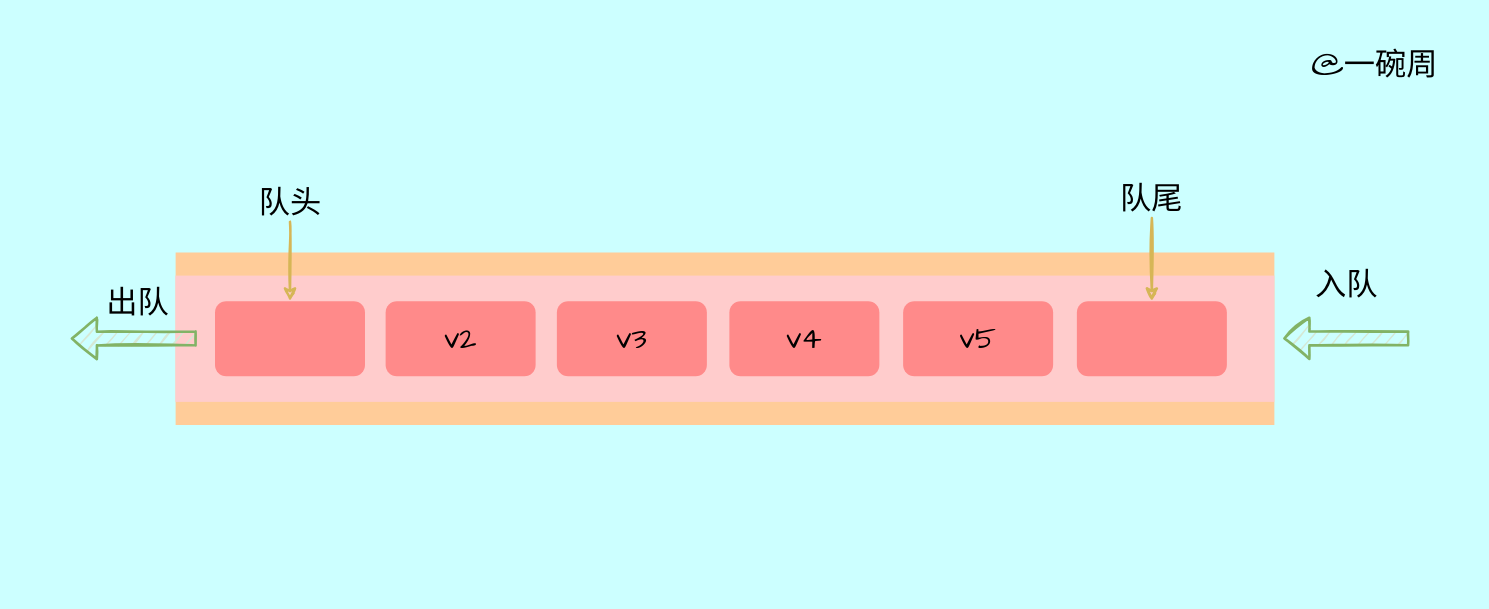
Some shapes in this 1489 by 609 pixel diagram are drawn without their labels. Here are the shapes that lost their labels. From the top down, the centre of each, then its label:
At [289,338]: "v1".
At [1151,338]: "v6".
